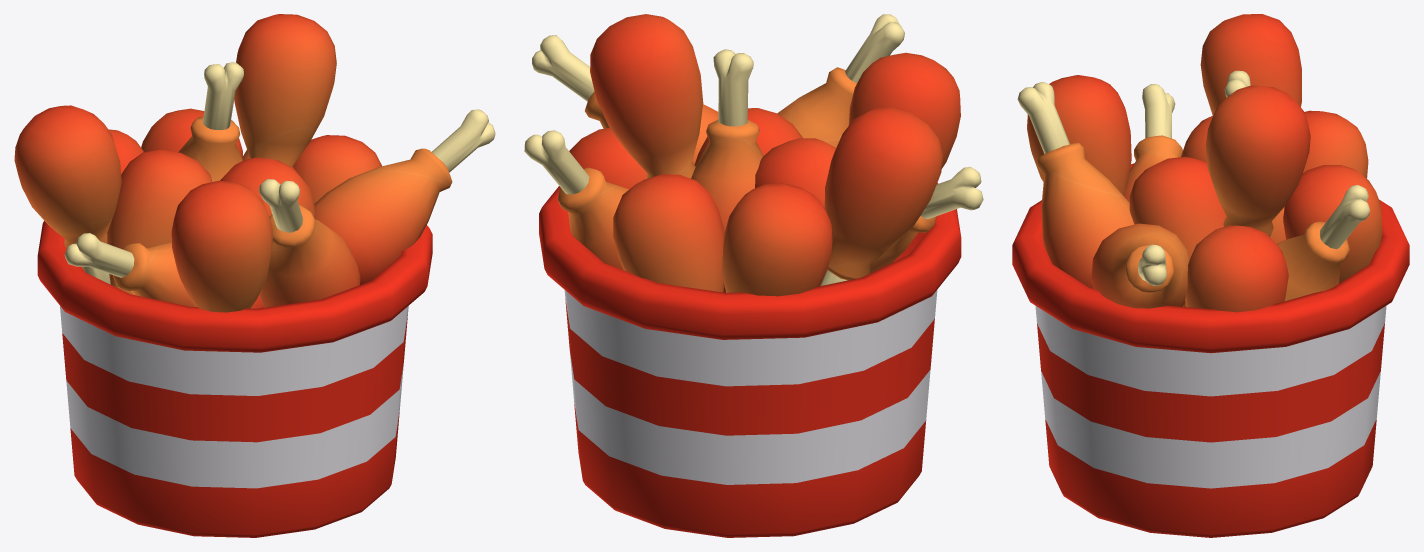
File: Chicken-Legs.fbx
The picture shows the model from 3 angles, left to right: view 1: azimuth 30°, elevation 25°; view 2: azimuth 150°, elevation 25°; view 3: azimuth 270°, elevation 25°; orthographic projection. The views are drawn at different scales.
Parts seen in each view (by area): view 1: Chicken-Legs; view 2: Chicken-Legs; view 3: Chicken-Legs.
Part boxes in pixels (left/top/right/bottom): Chicken-Legs: left=14, top=14, right=495, bottom=537; Chicken-Legs: left=524, top=14, right=983, bottom=537; Chicken-Legs: left=1012, top=14, right=1409, bottom=537.
Bounding box in the file's own units: 78.11 × 73.78 × 63.69.
